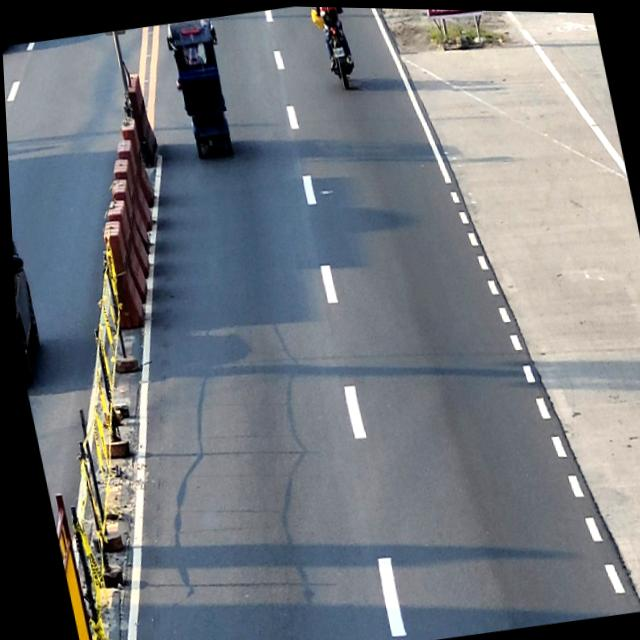Car: (8, 196, 46, 385)
E-bike: (163, 16, 239, 162)
License-Plate: (333, 47, 345, 56)
Motorcycle: (317, 6, 356, 89)
